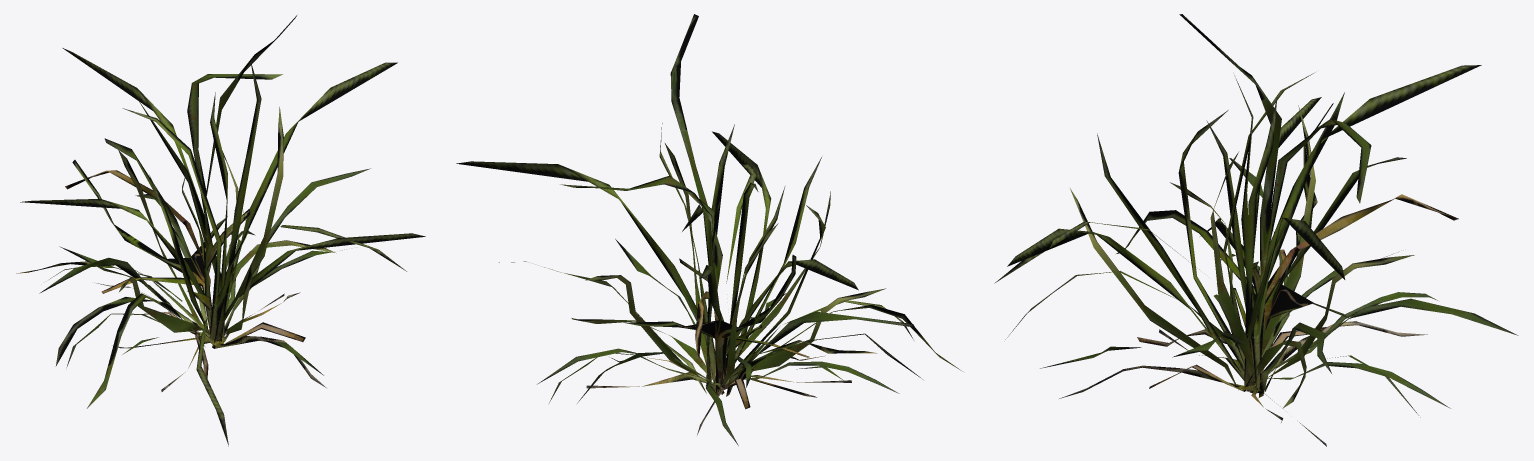
The picture shows the model from 3 angles, left to right: view 1: azimuth 30°, elevation 25°; view 2: azimuth 150°, elevation 25°; view 3: azimuth 270°, elevation 25°; orthographic projection. The views are drawn at different scales.
Parts seen in each view (by area): view 1: grass_medium_01_small_a_LOD0; view 2: grass_medium_01_small_a_LOD0; view 3: grass_medium_01_small_a_LOD0.
Boxes of the visible parts, x1,y1,x2,y2 form: grass_medium_01_small_a_LOD0: [16, 15, 425, 446]; grass_medium_01_small_a_LOD0: [456, 14, 962, 445]; grass_medium_01_small_a_LOD0: [994, 14, 1518, 446].
Size of the model in its own units: 0.1745 by 0.1405 by 0.1621.
Materials: 1 (1 with a texture image).
